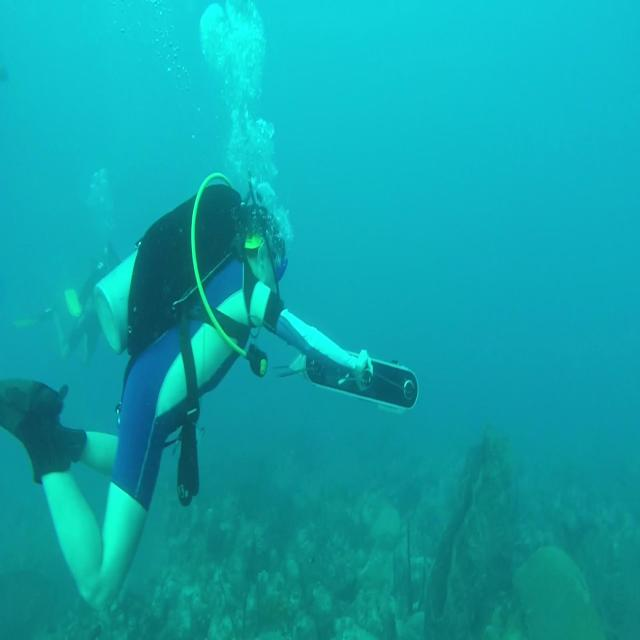human: (1, 170, 375, 611)
